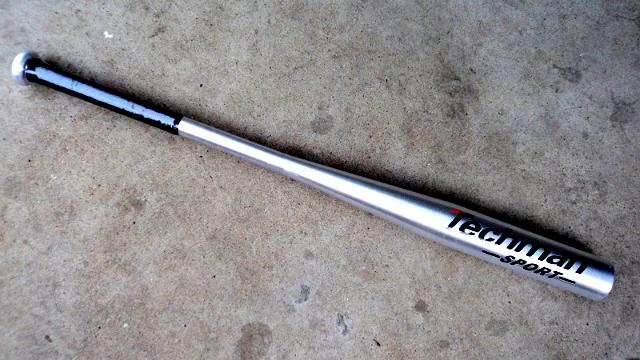baseball bat: (4, 30, 626, 323)
